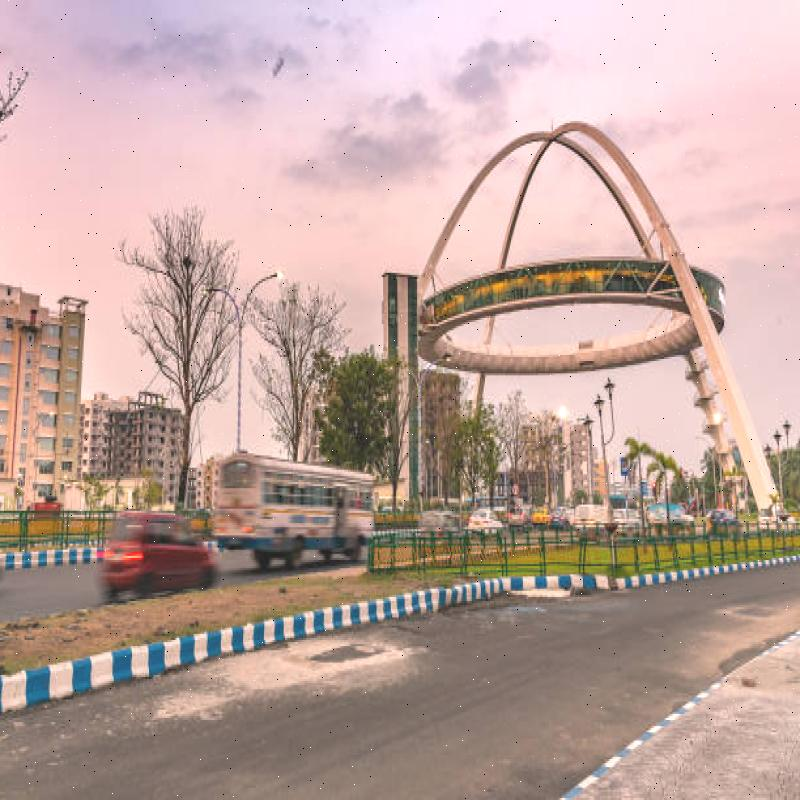bus: (207, 437, 388, 589)
car: (72, 498, 224, 612)
